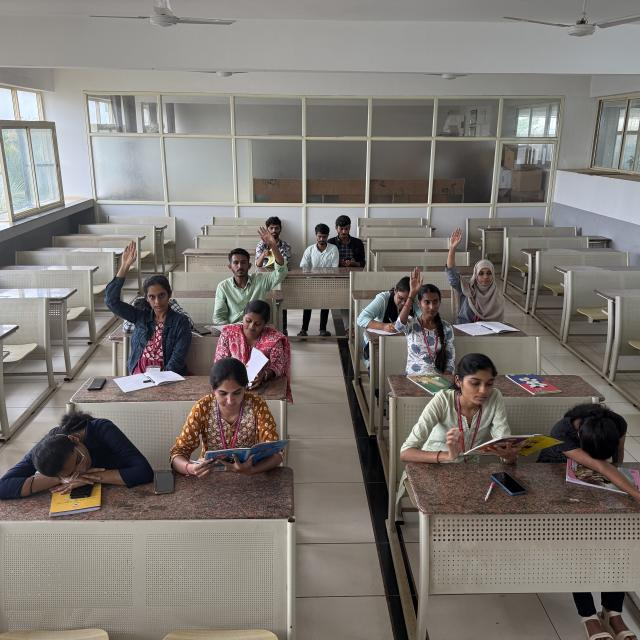Hand Rising: (104, 240, 185, 364), (215, 224, 283, 322), (399, 267, 455, 365), (445, 227, 504, 318)
Reading: (399, 352, 557, 464), (174, 358, 281, 467), (215, 300, 288, 390)
Sleeping: (0, 413, 151, 486), (552, 393, 640, 467)
Using Phone: (328, 214, 368, 270)
Writing: (359, 279, 413, 336)
